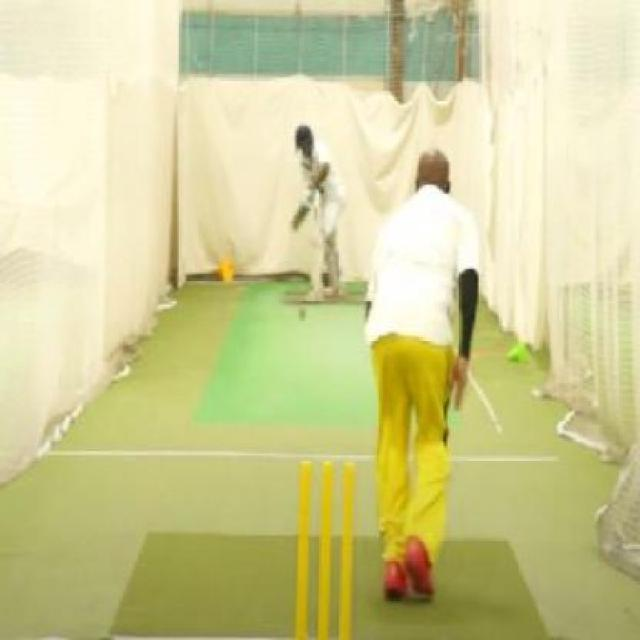ball: (296, 305, 310, 324)
stump: (292, 458, 359, 640)
